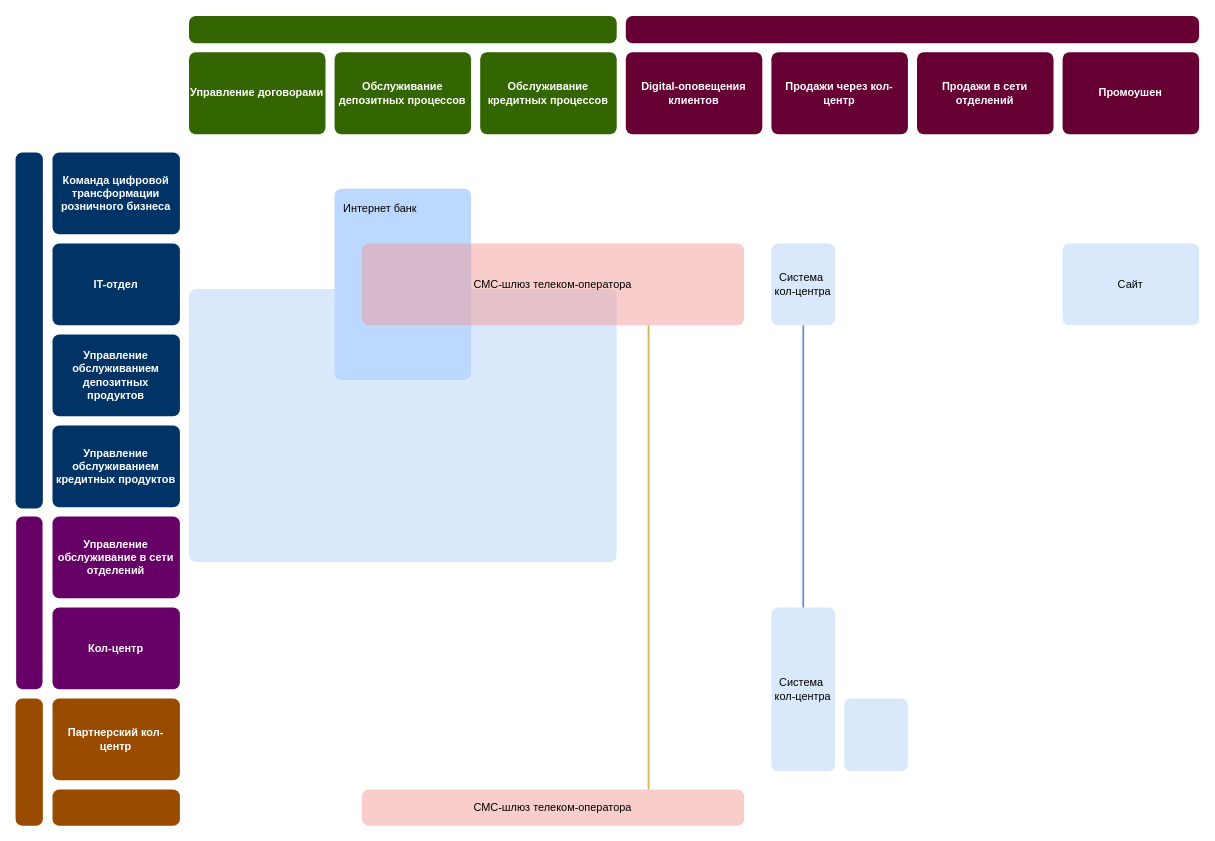
Some shapes in this 1215 by 841 pixel diagram are drawn without their labels. Each missing label, with the box of its shape:
Автоматизированная банковская система: (189, 288, 616, 561)
Бэк-офис: (15, 152, 42, 508)
Поддержка операционных процессов: (189, 15, 616, 43)
Подрядчики: (15, 698, 42, 825)
Продажи и маркетиг: (625, 15, 1199, 43)
Система партнерского кол-центра: (844, 698, 907, 771)
Телеком-оператор: (52, 789, 179, 825)
Фронт-офис: (16, 516, 42, 689)
